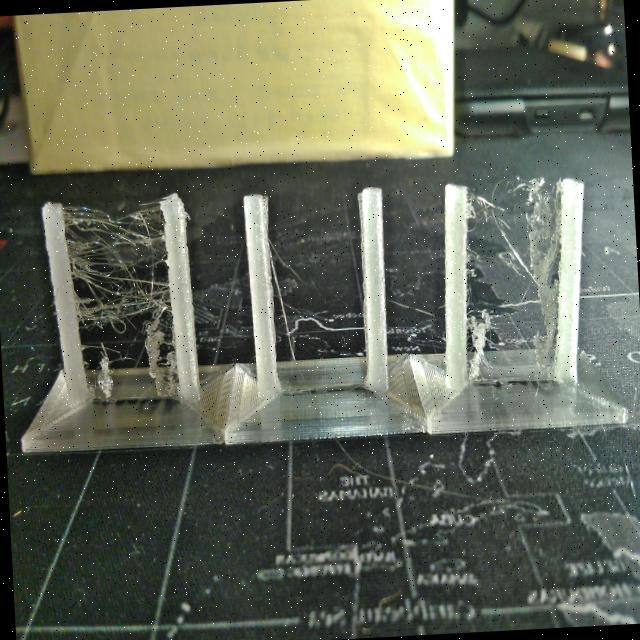stringing: (70, 197, 176, 406), (511, 177, 574, 390), (461, 180, 514, 392)
